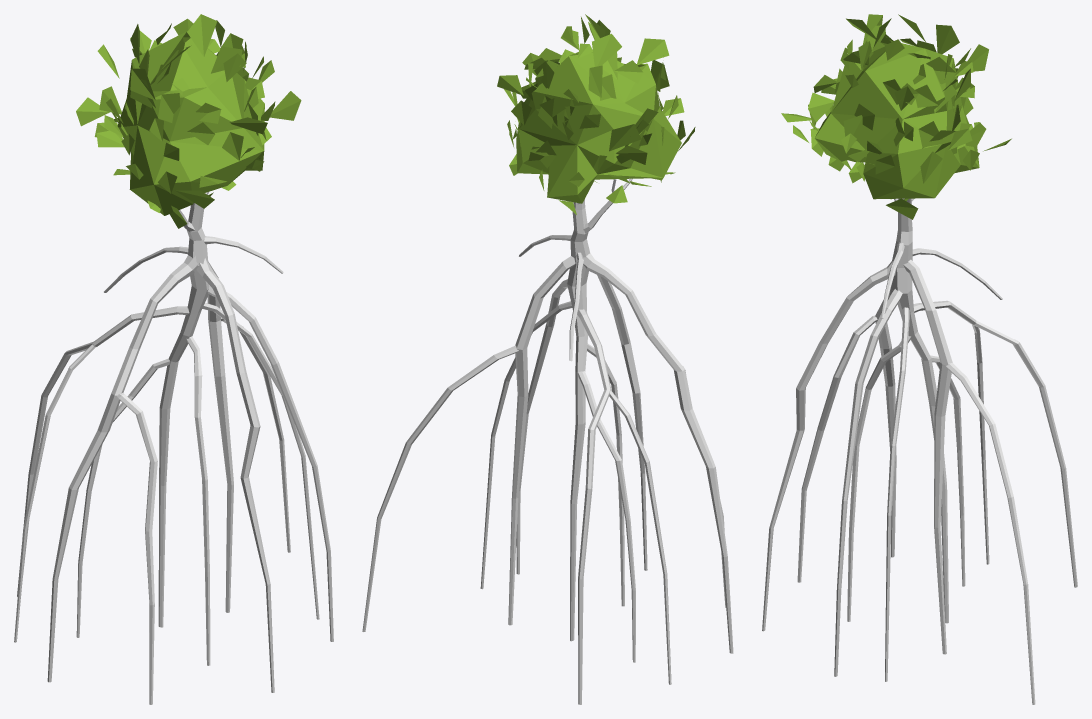
File: SM_Tree_Mangrove_Young_A.fbx
The picture shows the model from 3 angles, left to right: view 1: azimuth 30°, elevation 25°; view 2: azimuth 150°, elevation 25°; view 3: azimuth 270°, elevation 25°; orthographic projection. The views are drawn at different scales.
Visible parts, largest first — view 1: tree-mangrove-young-a; view 2: tree-mangrove-young-a; view 3: tree-mangrove-young-a.
Boxes of the visible parts, box(x1,y1,x2,y2) form: tree-mangrove-young-a: box(14, 14, 333, 704); tree-mangrove-young-a: box(362, 14, 733, 704); tree-mangrove-young-a: box(762, 14, 1077, 704).
Size of the model in its own units: 3.21 by 6.14 by 2.88.
